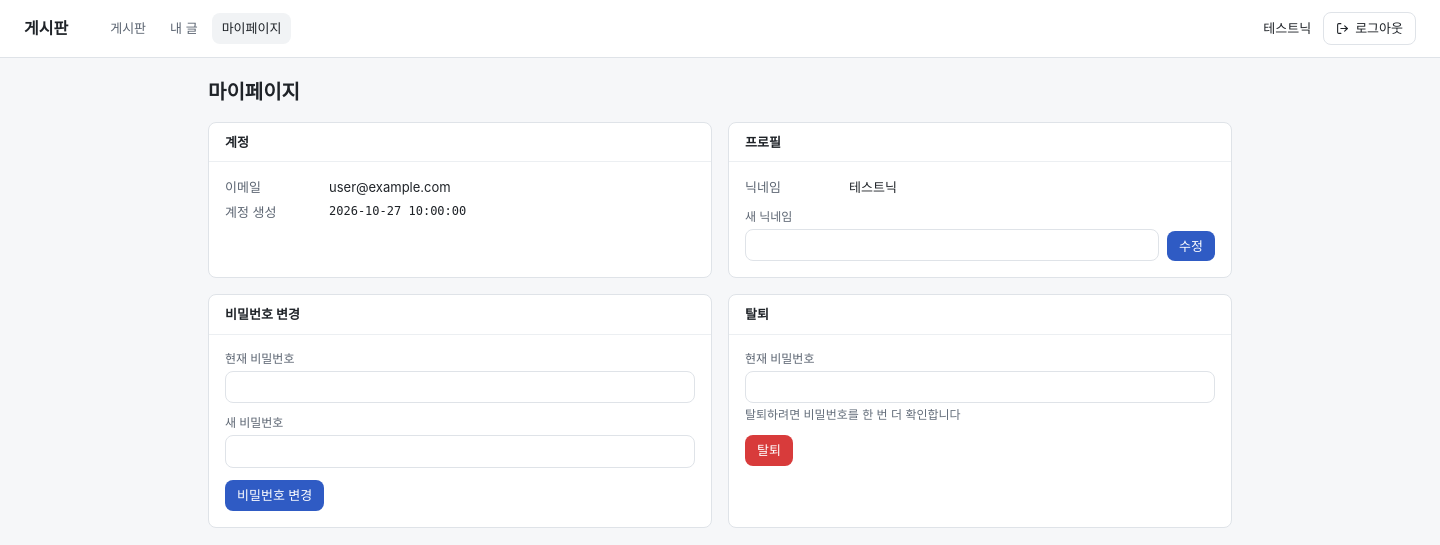
Test case: 화면마다 보이는 문구 › 로그인 — 탈퇴를 마치지 못하고 로그인 상태가 끝남 — 검사 목록에 걸리는 것이 없다
Expected: the element that starts with "마이페이지" shows "user@example.com", [329,179,451,195]
In the 2nd password field labelled "현재 비밀번호": (980, 387) [745,371,1215,403], type "Passw0rd!"
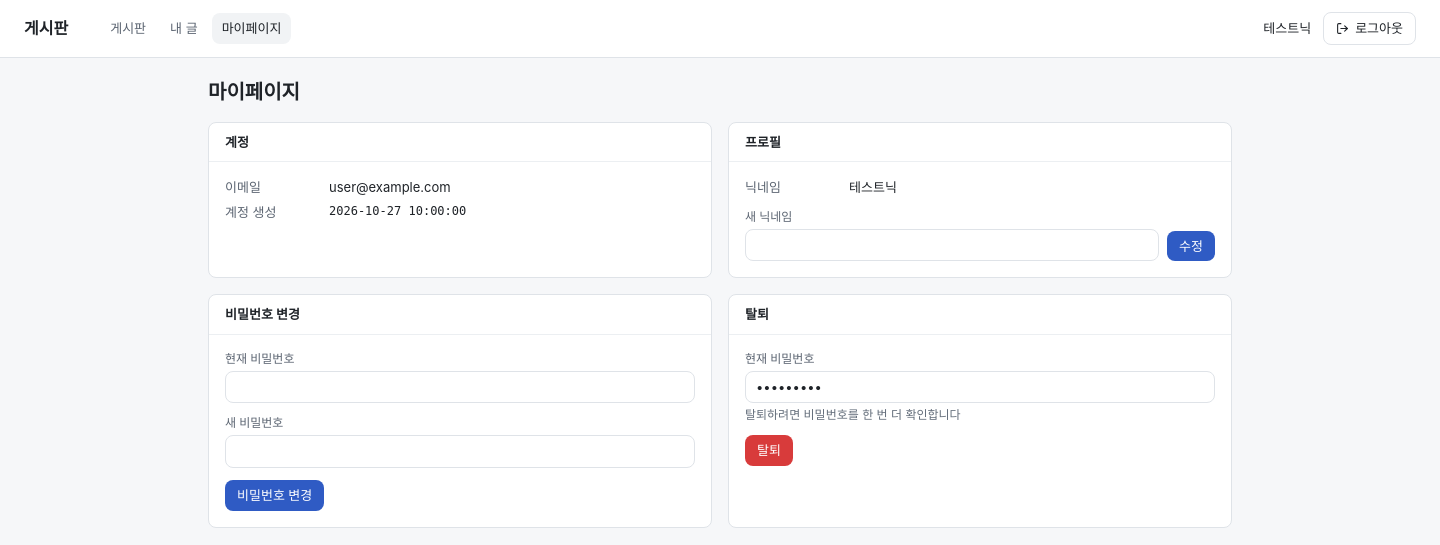
Submit the form "현재 비밀번호 탈퇴하려면 비밀번호를 한 번 더 확인합니다 탈퇴", box [745,351,1215,466]
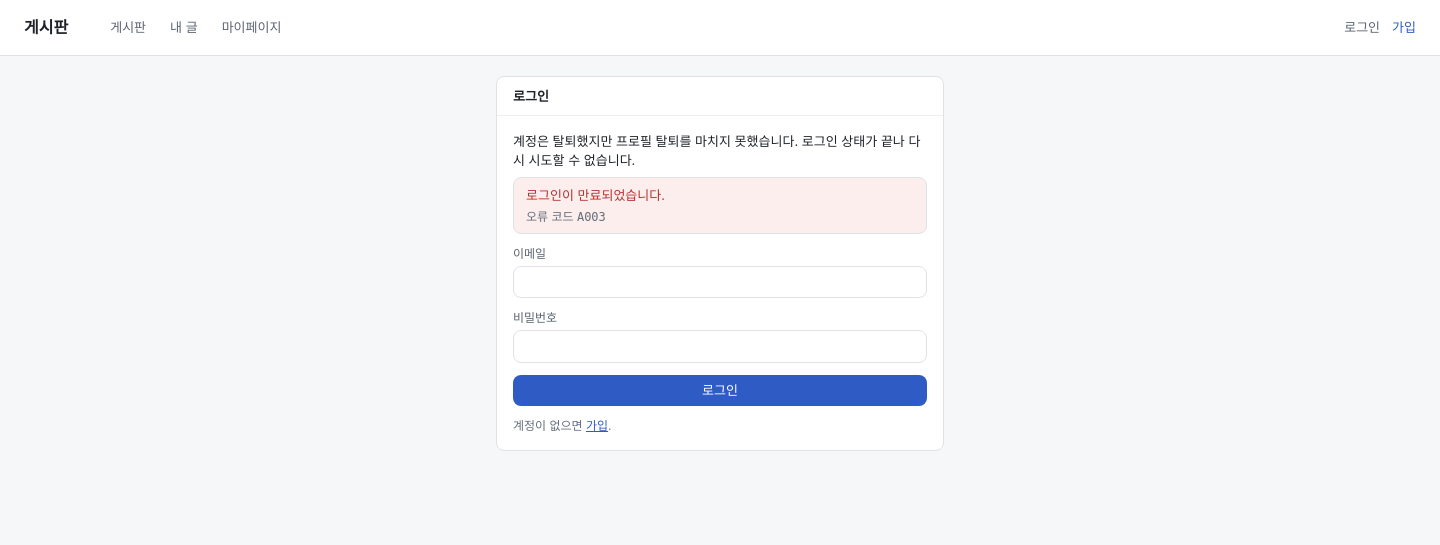
Now the text "다시 시도할 수 없습니다." is shown, box [513,133,920,168]
Now the text "계정이 없으면" is shown, box [513,418,586,432]
Now the element showing "로그인이 만료되었습니다. 오류 코드 A003" is shown, box [513,177,927,234]
